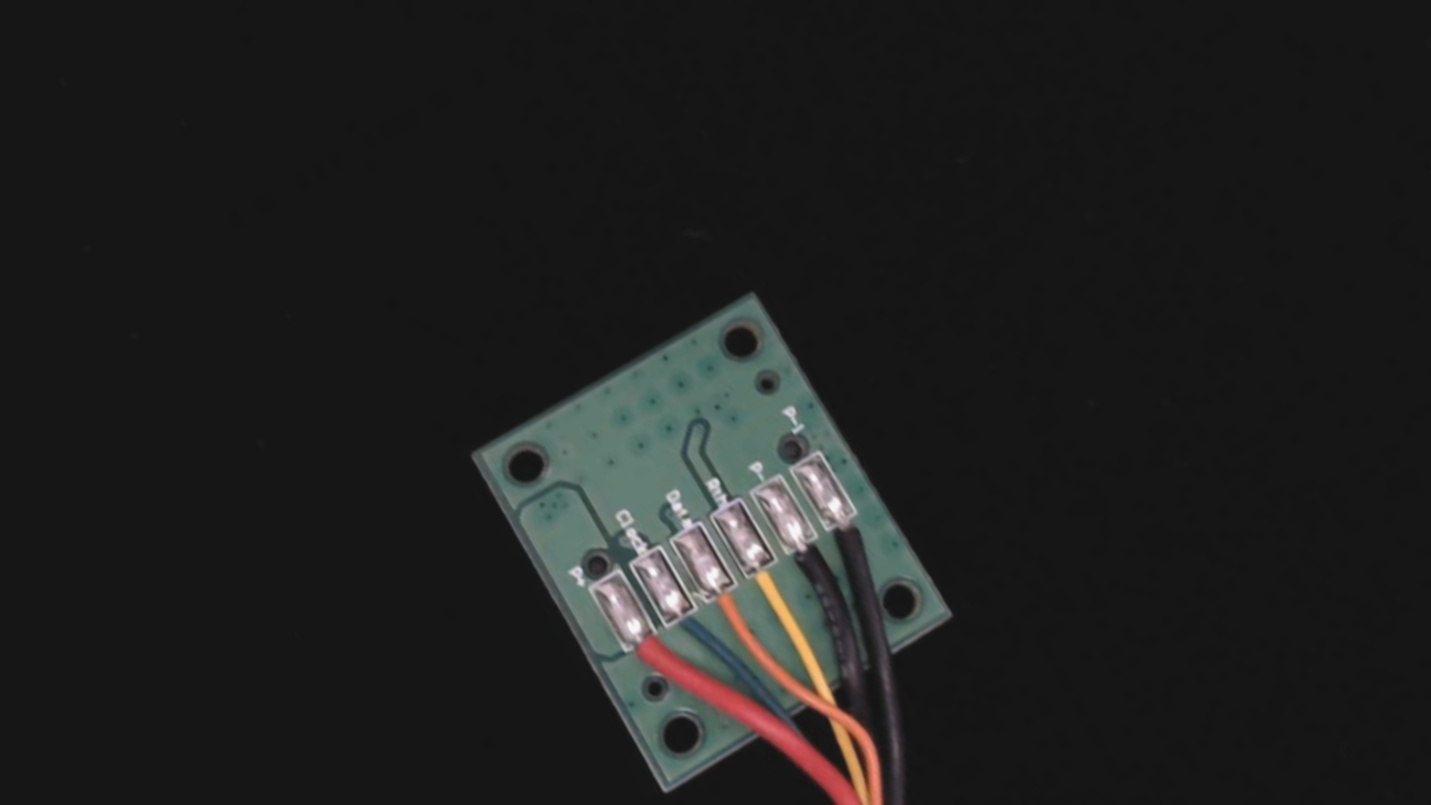Black: (769, 517, 857, 615)
Black1: (812, 493, 896, 585)
Green: (649, 588, 725, 671)
Orange: (688, 564, 774, 660)
Red: (606, 614, 692, 709)
Yellow: (726, 542, 815, 641)
